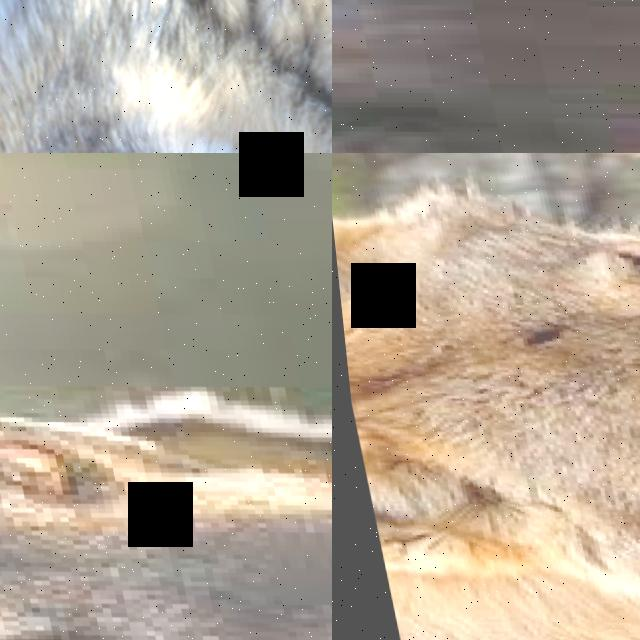dog: (0, 153, 332, 640), (332, 0, 640, 153)
wolf: (332, 153, 640, 640), (0, 0, 332, 153)
